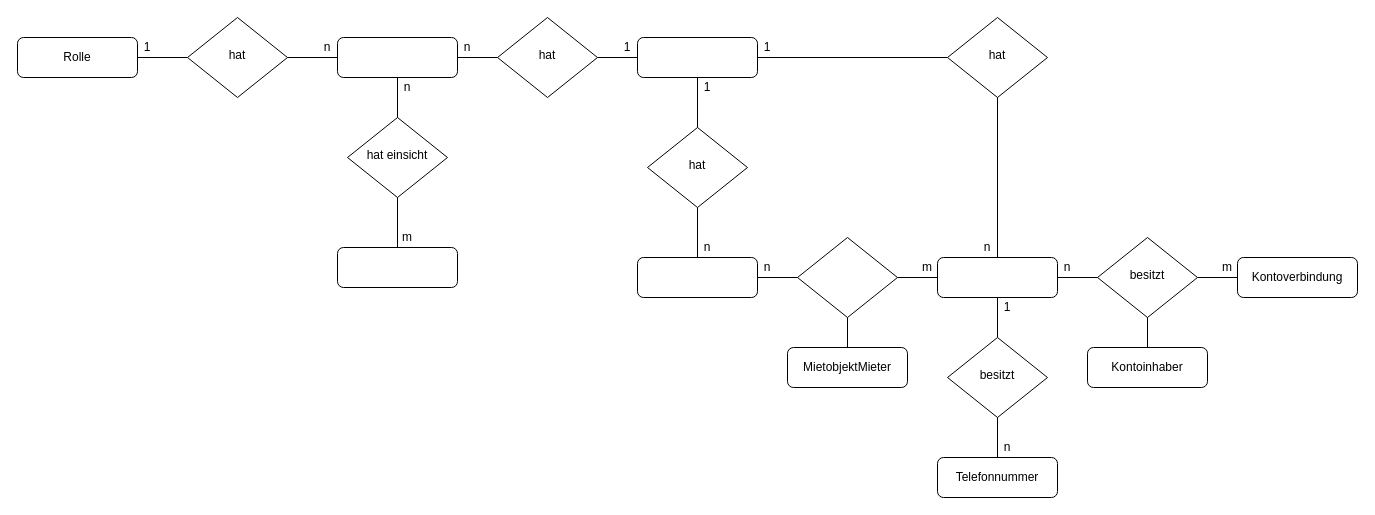
Image size: 1375x515. Some labels were removed from this diagram. The centre of each missing label's shape, as x and y in pixels:
"Einnahmeübersicht" belongs at (397,267).
"Mieter" belongs at (997,277).
"mietet" belongs at (847,277).
"Mietobjekt" belongs at (697,277).
"Ort" belongs at (697,57).
"User" belongs at (397,57).
